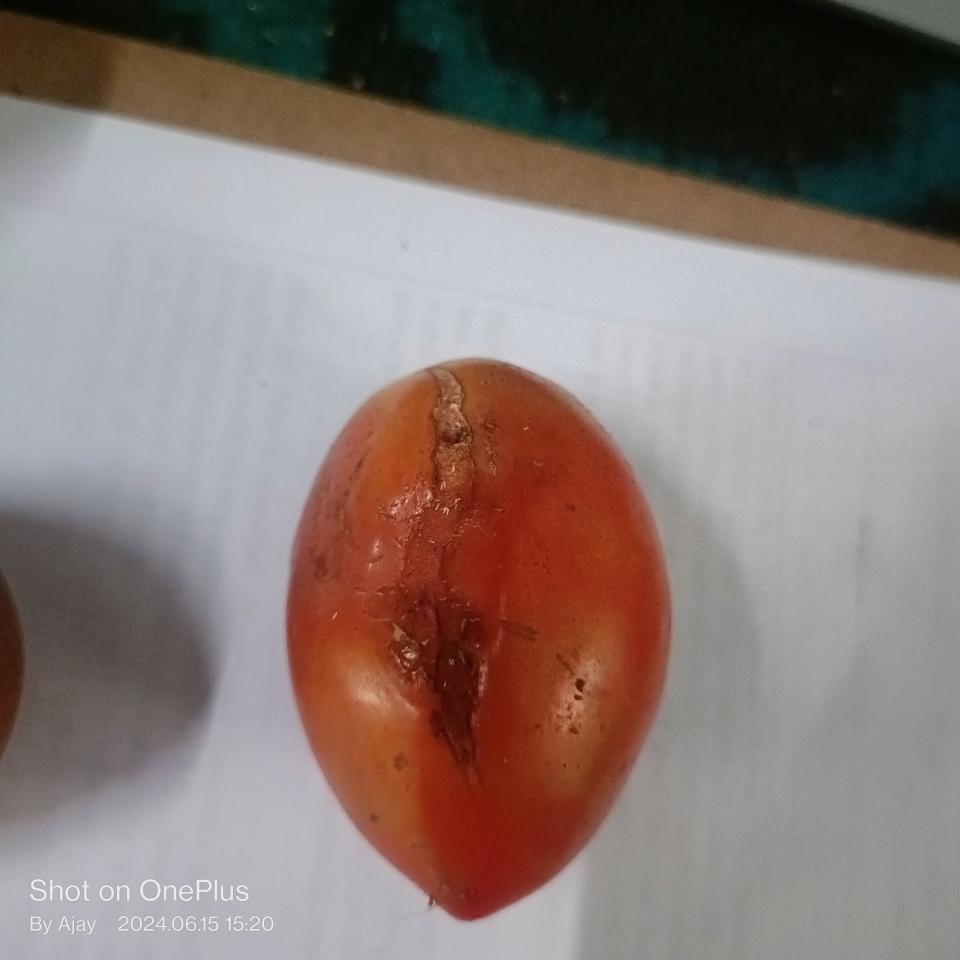Cracking: (368, 375, 516, 776)
